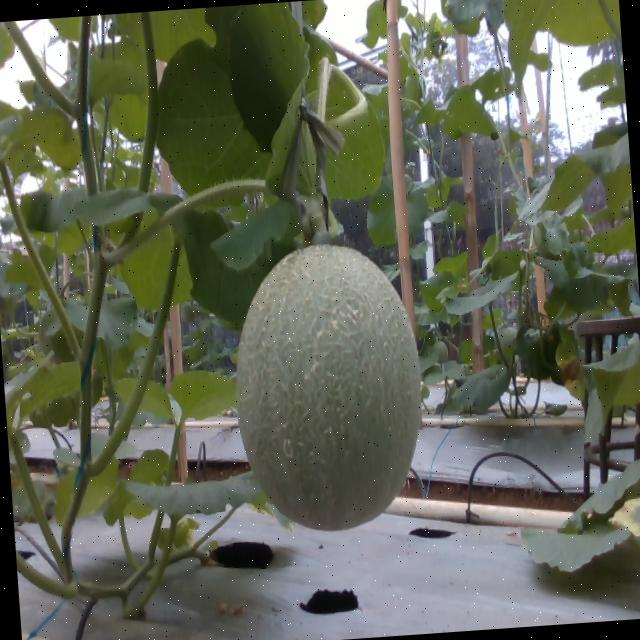melon: (238, 246, 421, 529)
